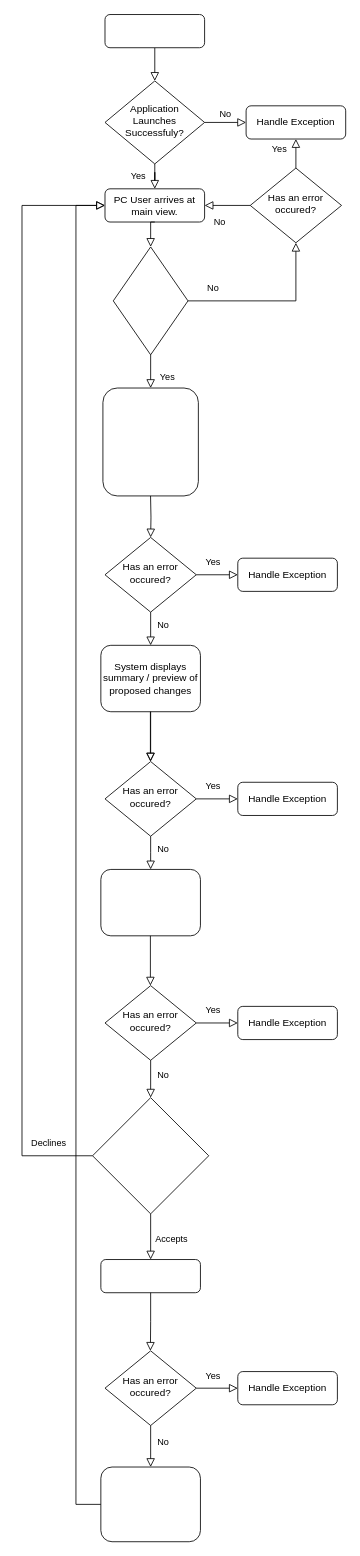
Some shapes in this 360 by 1556 pixel diagram are drawn without their labels. The centre of each missing label's shape, as x and y in pixels:
"PC User Launches Application" goes at (154,31).
"PC User selects directory to organize?" goes at (150,300).
"Prompt User to accept or decline proposed changes" goes at (150,902).
"System alerts PC User organization is complete" goes at (150,1504).
"System applies organization algorithms to selected directory" goes at (150,441).
"System modifes selected directory" goes at (150,1276).
"User Accepts or Declines proposed changes" goes at (150,1155).
